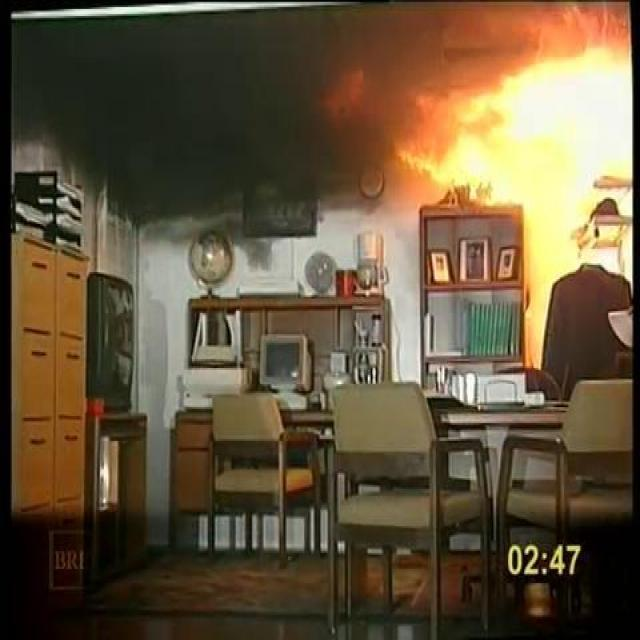fire: (390, 32, 640, 205)
smoke: (26, 21, 342, 220)
